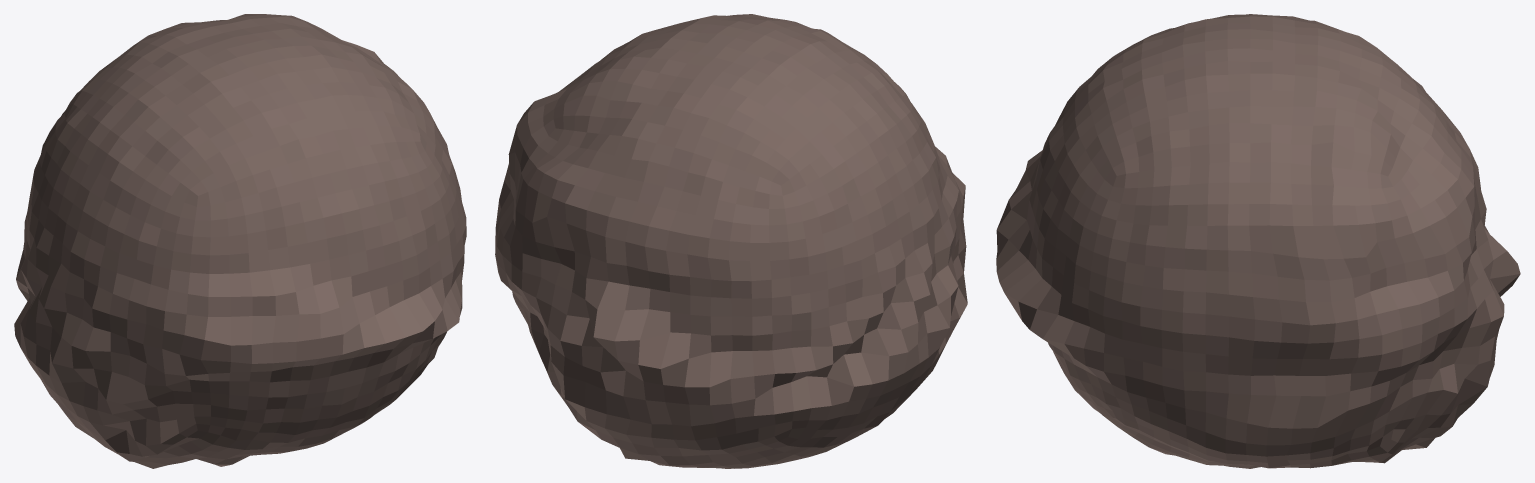
File: Asteroid 3.fbx
The picture shows the model from 3 angles, left to right: view 1: azimuth 30°, elevation 25°; view 2: azimuth 150°, elevation 25°; view 3: azimuth 270°, elevation 25°; orthographic projection. The views are drawn at different scales.
Parts seen in each view (by area): view 1: Asteroida 3; view 2: Asteroida 3; view 3: Asteroida 3.
Part boxes in pixels (x1=…): Asteroida 3: x1=14, y1=14, x2=466, y2=468; Asteroida 3: x1=495, y1=14, x2=967, y2=468; Asteroida 3: x1=996, y1=14, x2=1520, y2=468.
Size of the model in its own units: 611 by 573 by 648.
